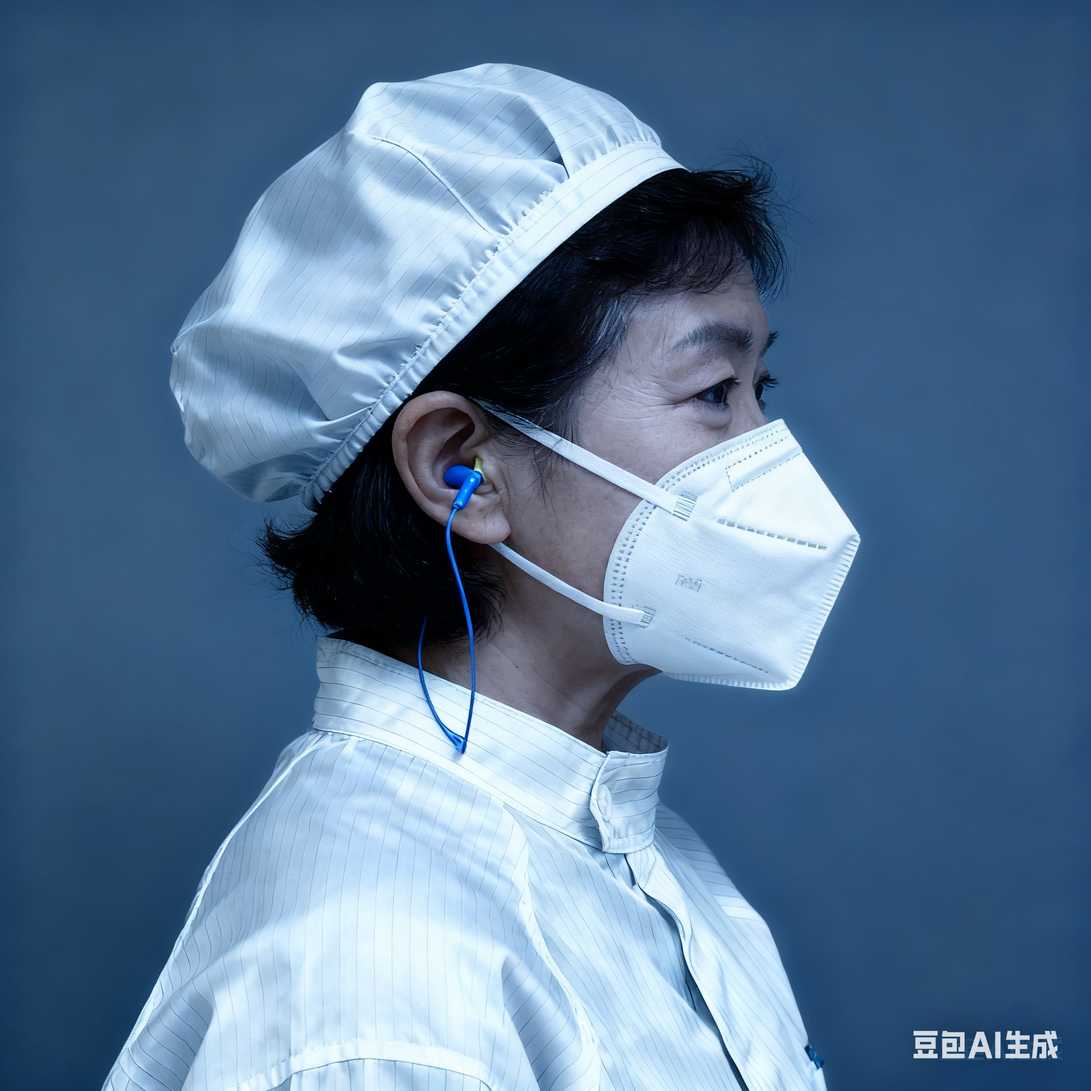MASK: (600, 414, 857, 688)
